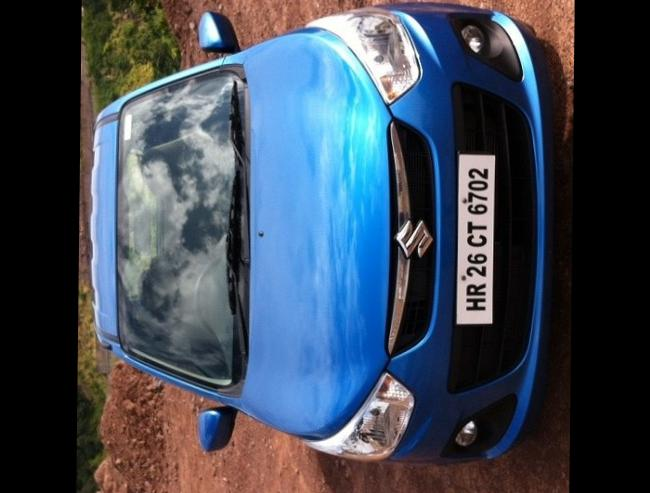plate: (448, 145, 510, 340)
